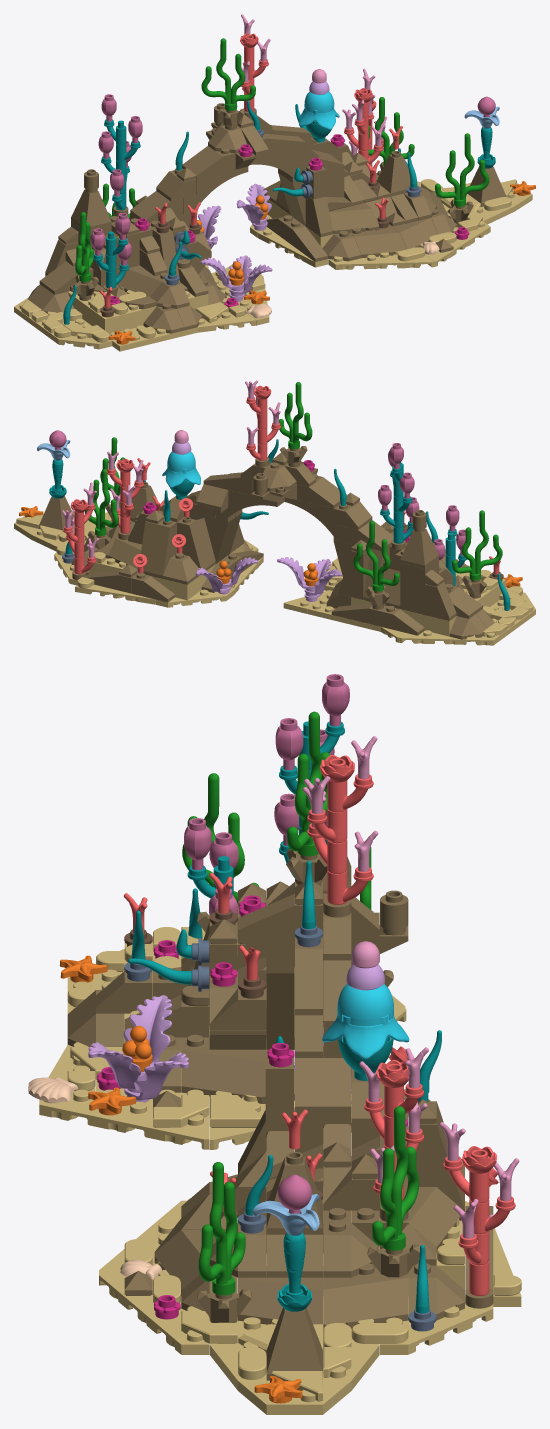
The model's file is Sea1.fbx.
The picture shows the model from 3 angles, top to bottom: view 1: azimuth 30°, elevation 25°; view 2: azimuth 150°, elevation 25°; view 3: azimuth 270°, elevation 25°; orthographic projection. The views are drawn at different scales.
Parts seen in each view (by area): view 1: part.224, part.130, part.132, part.215, part.166, part.235, part.214, part.193, part.194, part.249, part.254, part.129 (+43 smaller); view 2: part.157, part.156, part.136, part.129, part.133, part.224, part.223, part.132, part.194, part.166, part.131, part.255 (+47 smaller); view 3: part.110, part.228, part.217, part.234, part.130, part.131, part.164, part.195, part.233, part.132, part.216, part.154 (+65 smaller).
Part boxes in pixels (box(x1,y1,x2,y2)): part.224: box(45, 276, 208, 334); part.130: box(435, 133, 489, 206); part.132: box(201, 38, 255, 110); part.215: box(349, 224, 406, 258); part.166: box(182, 146, 235, 178); part.235: box(328, 247, 434, 269); part.214: box(329, 203, 379, 233); part.193: box(377, 151, 410, 196); part.194: box(71, 189, 111, 230); part.249: box(285, 220, 327, 261); part.254: box(305, 196, 333, 237); part.129: box(75, 212, 93, 281); part.157: box(138, 519, 176, 578); part.156: box(177, 517, 215, 570); part.136: box(400, 559, 438, 614); part.129: box(452, 510, 502, 580); part.133: box(353, 520, 399, 591); part.224: box(351, 579, 506, 636); part.223: box(89, 544, 243, 600); part.132: box(279, 382, 312, 449); part.194: box(400, 529, 438, 568); part.166: box(297, 473, 346, 508); part.131: box(85, 469, 118, 535); part.255: box(425, 582, 456, 620); part.110: box(209, 1317, 379, 1414); part.228: box(323, 1263, 408, 1328); part.217: box(181, 1034, 266, 1103); part.234: box(39, 1089, 209, 1149); part.130: box(198, 1162, 245, 1295); part.131: box(372, 1106, 419, 1250); part.164: box(295, 1046, 351, 1112); part.195: box(266, 1308, 322, 1380); part.233: box(99, 1269, 209, 1354); part.132: box(287, 711, 329, 856); part.216: box(238, 1266, 322, 1324); part.154: box(209, 976, 266, 1030).
Bounding box in the file's own units: 31500 × 13527 × 13906.
